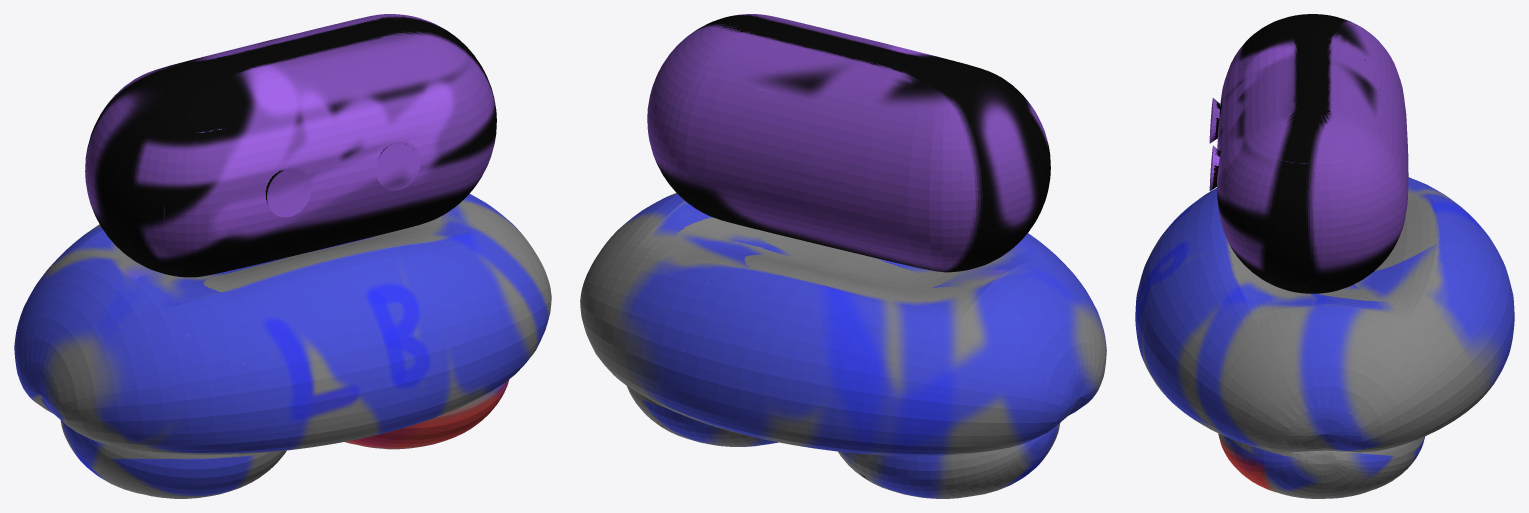
The model's file is robot.dae.
The picture shows the model from 3 angles, left to right: view 1: azimuth 30°, elevation 25°; view 2: azimuth 150°, elevation 25°; view 3: azimuth 270°, elevation 25°; orthographic projection. The views are drawn at different scales.
Parts seen in each view (by area): view 1: Sphere_002; view 2: Sphere_002; view 3: Sphere_002.
Part boxes in pixels (x1=…): Sphere_002: x1=14, y1=14, x2=551, y2=498; Sphere_002: x1=580, y1=14, x2=1106, y2=498; Sphere_002: x1=1135, y1=14, x2=1514, y2=498.
Bounding box in the file's own units: 5.14 × 3.87 × 4.09.
4 materials, 4 textured.
